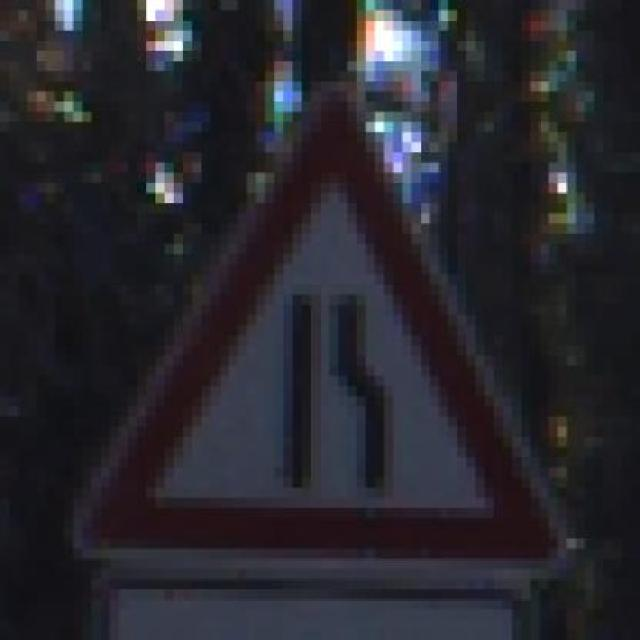-Road narrows on right: (70, 71, 572, 600)
